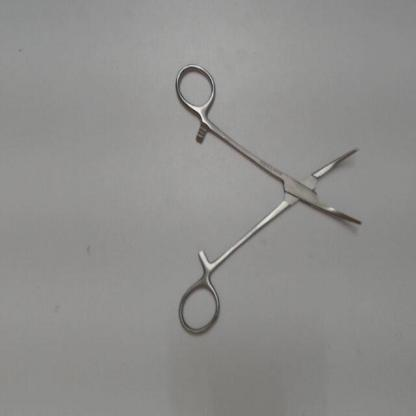Crile Artery Forceps: (169, 59, 372, 340)
